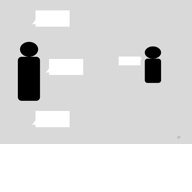left_oneway: (42, 54, 87, 79), (28, 7, 73, 30), (30, 107, 74, 130)
right_oneway: (116, 53, 143, 68)
